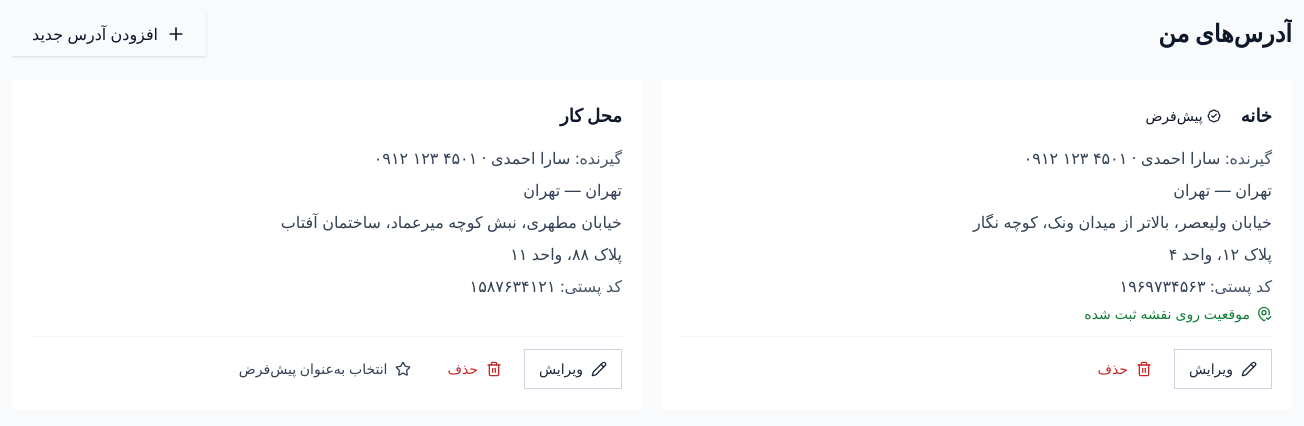
it: AddressList › «انتخاب به‌عنوان پیش‌فرض»: the card waits, then the book is read again with it first
Later steps or results of the test are not shown.
Click the button named "انتخاب به‌عنوان پیش‌فرض (آدرس محل کار)" at [325, 369], box [225,349,426,389]
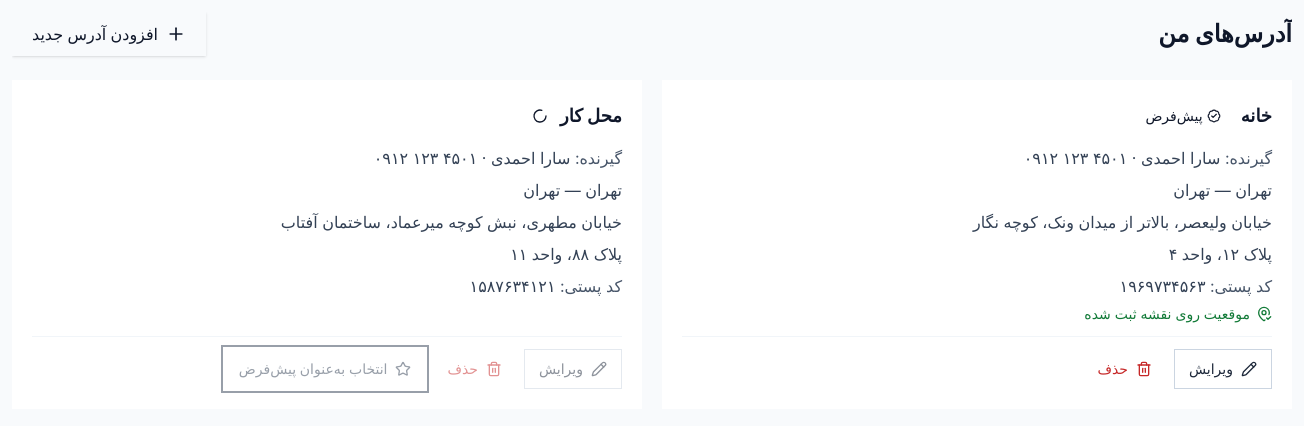
expect the element "محل کار" has attribute aria-busy="true": met, box [12,80,642,409]
expect the button named "حذف آدرس محل کار" is disabled: met, box [434,349,516,389]
